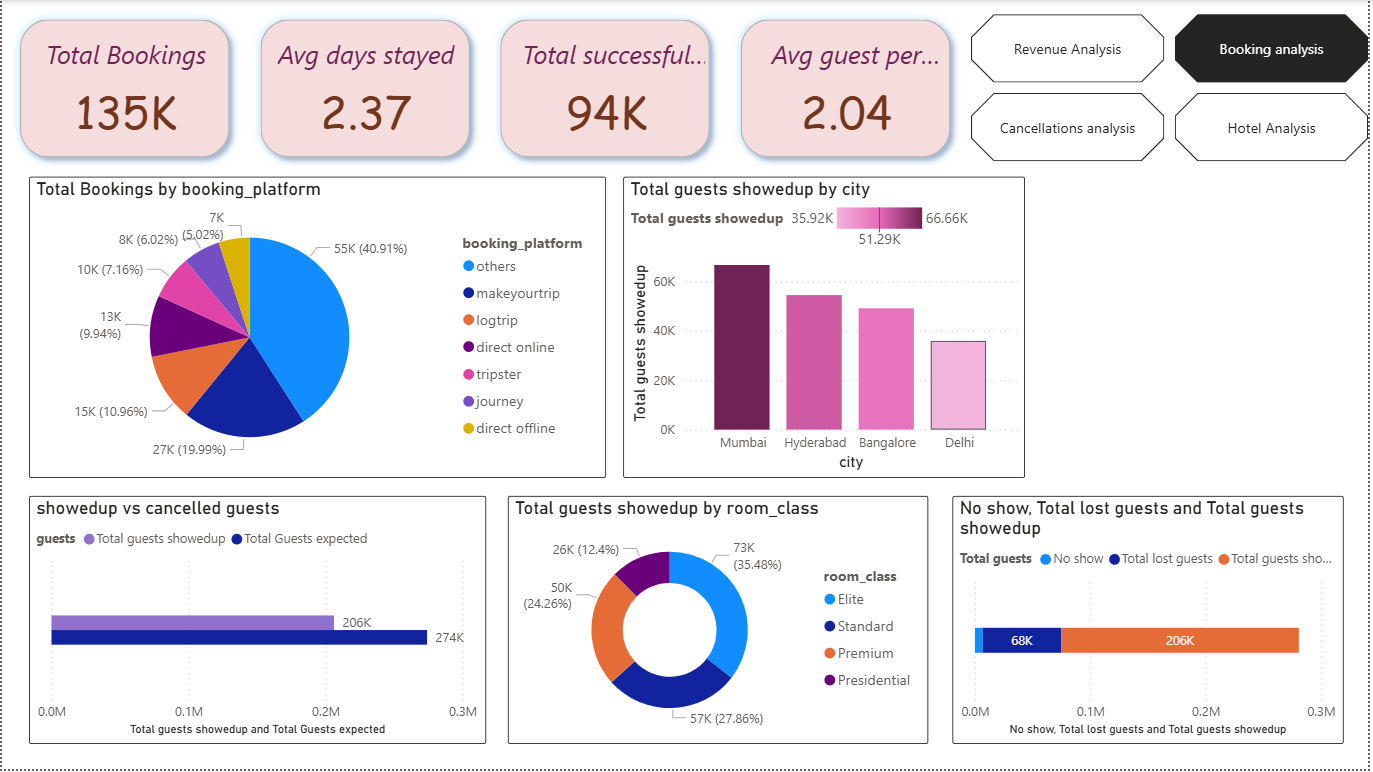

The dashboard page shown, as its layout file describes it:
{"tool":"powerbi","page":{"name":"Booking analysis","canvas":[1280,720],"ordinal":1},"visuals":[{"type":"cardVisual","fields":{"Data":["guests measure.Total Bookings","Other measures.Avg days stayed","guests measure.Total successful bookings","guests measure.Avg guest per booking"]},"box":[0,0,908,164],"z":0},{"type":"clusteredBarChart","title":"showedup vs cancelled guests","fields":{"Y":["guests measure.Total guests showedup","guests measure.Total Guests expected"]},"box":[26,464,428,232],"z":1000},{"type":"donutChart","fields":{"Category":["dim_rooms.room_class"],"Y":["guests measure.Total guests showedup"]},"box":[474,464,394,232],"z":2000},{"type":"pieChart","fields":{"Y":["guests measure.Total Bookings"],"Category":["fact_bookings.booking_platform"]},"box":[26,166,540,282],"z":3000},{"type":"columnChart","fields":{"Y":["guests measure.Total guests showedup"],"Category":["dim_hotels.city"]},"box":[582,166,376,282],"z":4000},{"type":"pageNavigator","box":[908,14,372,138],"z":5000},{"type":"barChart","fields":{"Y":["guests measure.No show","guests measure.Total lost guests","guests measure.Total guests showedup"]},"box":[890,464,366,232],"z":6000}]}

Visuals, with their boxes in screenshot pixels (x1, y1, x2, y2), scaled from the page's 1280x720 canvas onto the 1373x772 screenshot:
cardVisual - guests measure.Total Bookings x Other measures.Avg days stayed: bbox=[0, 0, 974, 176]
"showedup vs cancelled guests" clusteredBarChart: bbox=[28, 498, 487, 746]
donutChart - dim_rooms.room_class x guests measure.Total guests showedup: bbox=[508, 498, 931, 746]
pieChart - guests measure.Total Bookings x fact_bookings.booking_platform: bbox=[28, 178, 607, 480]
columnChart - guests measure.Total guests showedup x dim_hotels.city: bbox=[624, 178, 1028, 480]
pageNavigator: bbox=[974, 15, 1372, 163]
barChart - guests measure.No show x guests measure.Total lost guests: bbox=[955, 498, 1347, 746]
